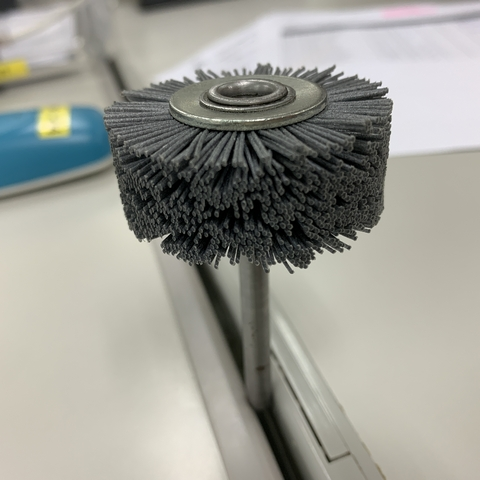Wheel Brush: (108, 68, 388, 379), (89, 64, 391, 321)
